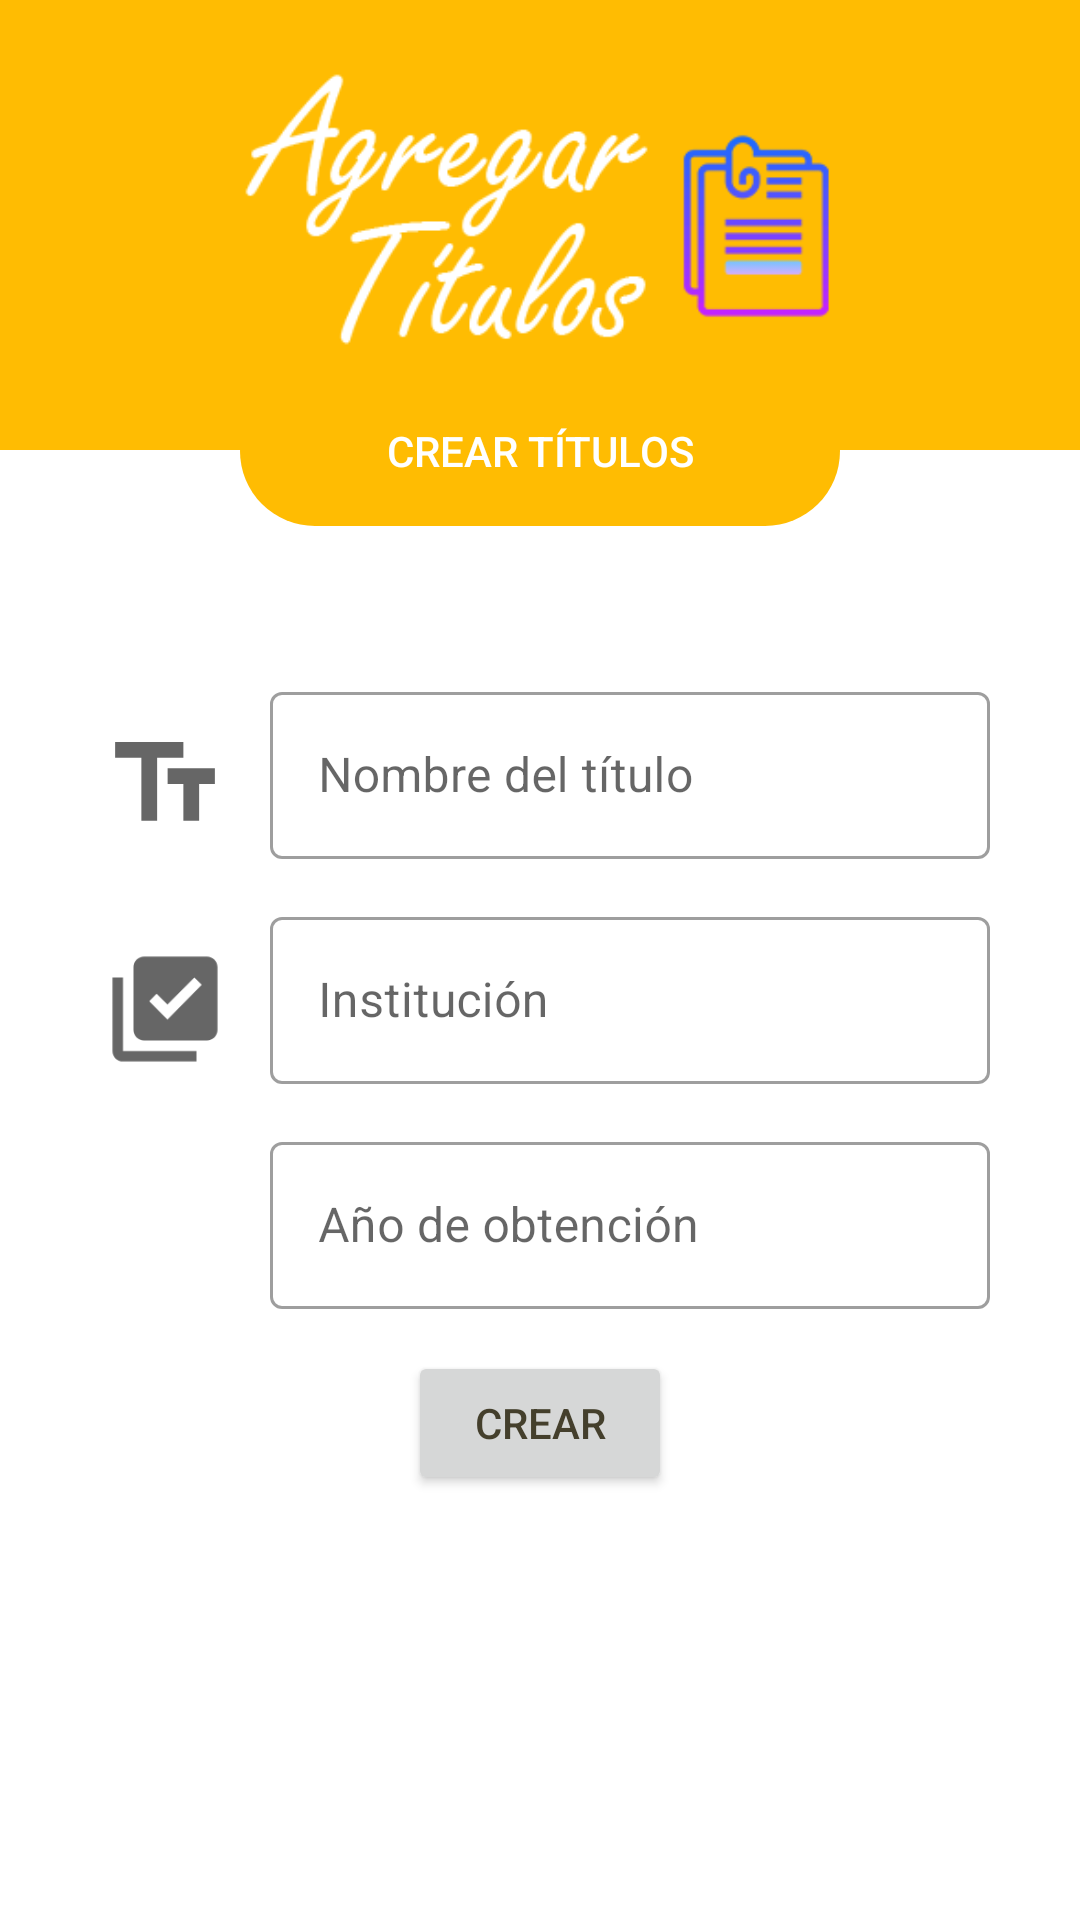

Screen size 1080px x 1920px. Icon name, then its center in pixels as [x,y]:
library add check: [165,1009]
text fields: [165,781]
